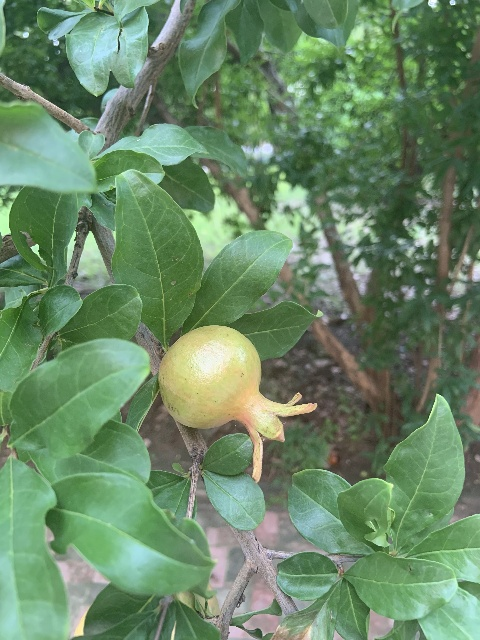mid-growth: (159, 325, 317, 481)
